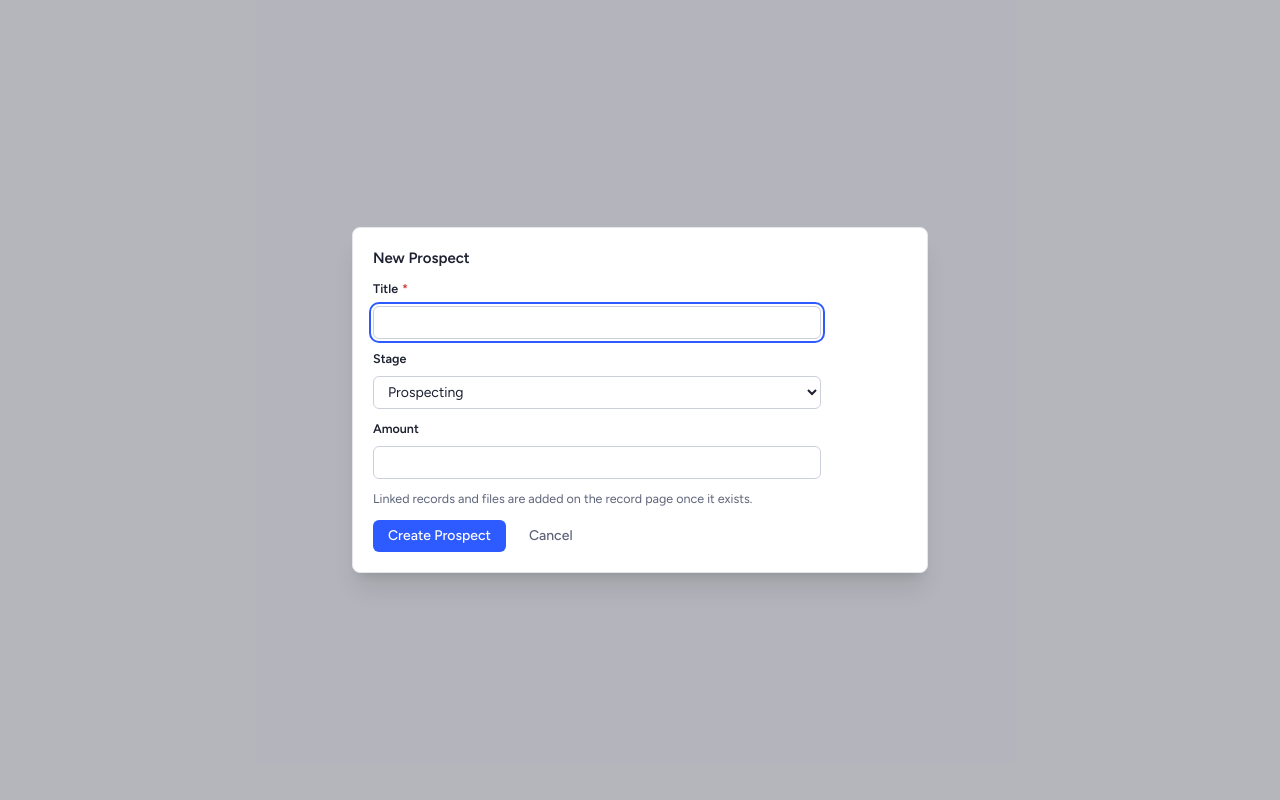
it: NewRecordDialog: what the server refuses › puts a field-named refusal beside that field, not in a page-level alert
The image size is (1280, 800).
Type "Acme renewal" into the field labelled "Title" at (597, 323), box [373,306,821,339]
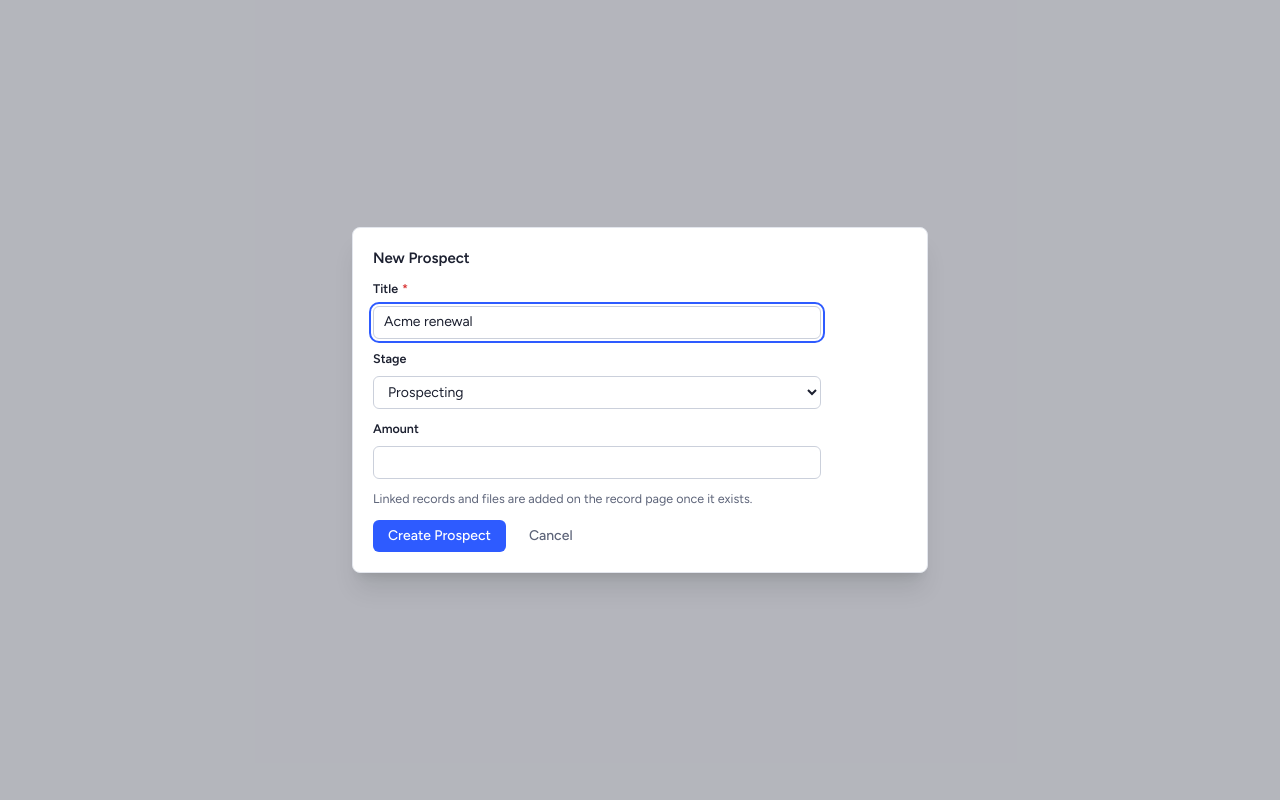
Click the button "Create Prospect" at (439, 536), box [373,520,506,552]
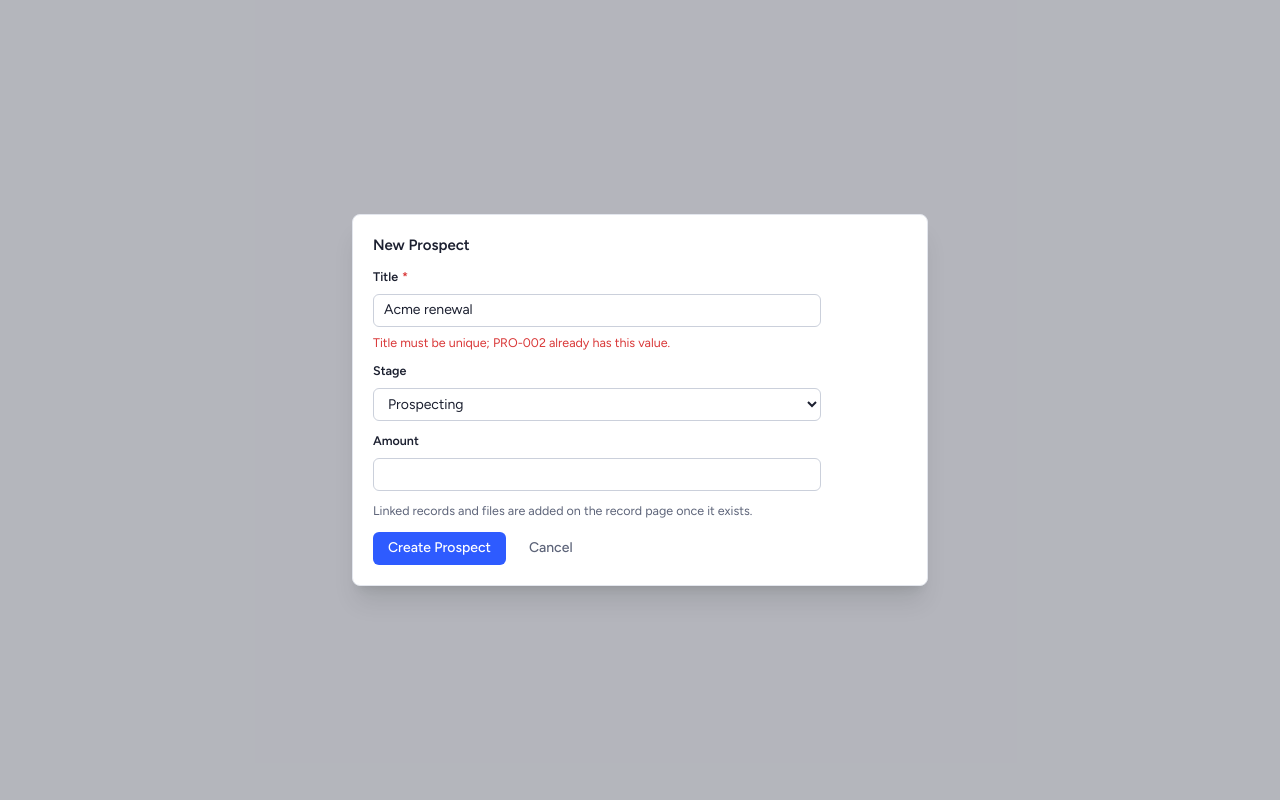
Expected: the message reads "Title must be unique; PRO-002 already has this value.", [373,335,670,350]
